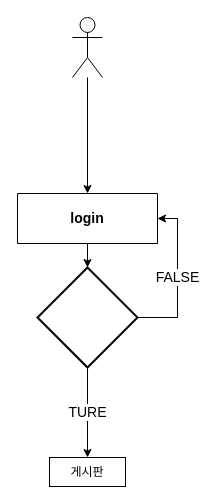
Some shapes in this 217 by 504 pixel diagram are drawn without their labels. Here are the shapes that lost their labels. From the top down, the centre of each, then its label:
(87,47): Actor
(87,317): 회원일치여부
